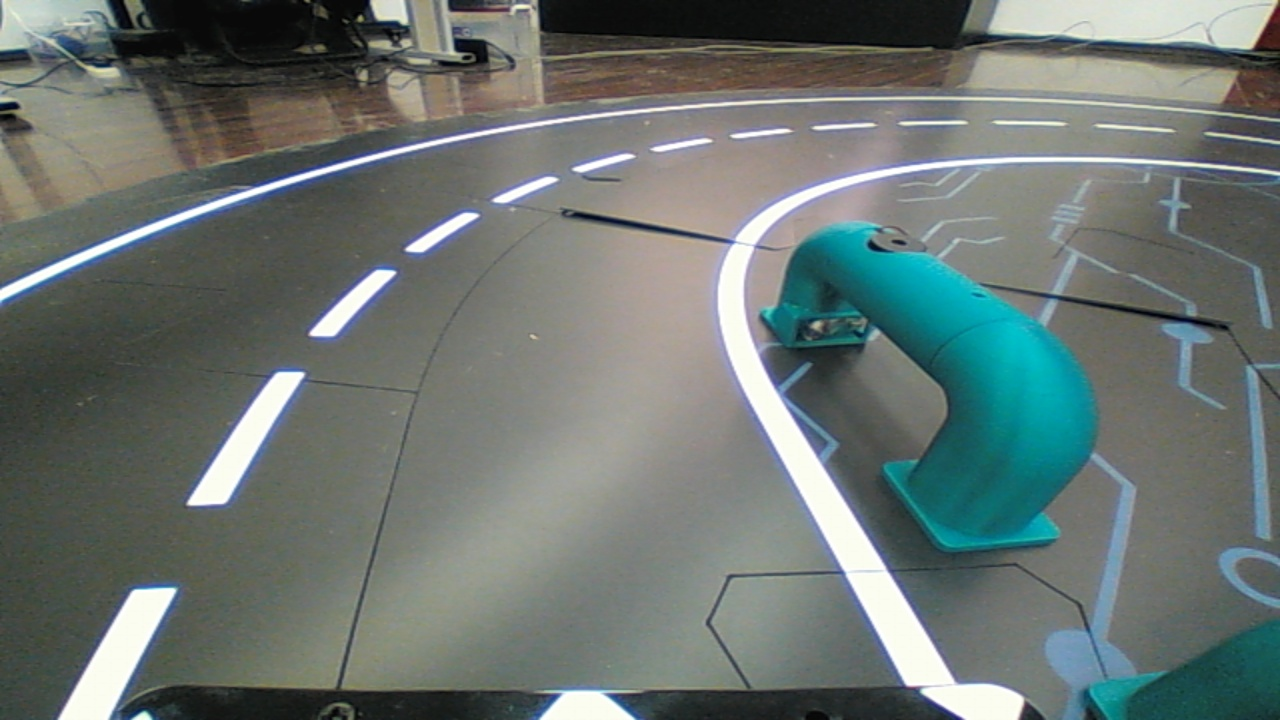Pedestrian crossing: (760, 194, 1098, 573)
